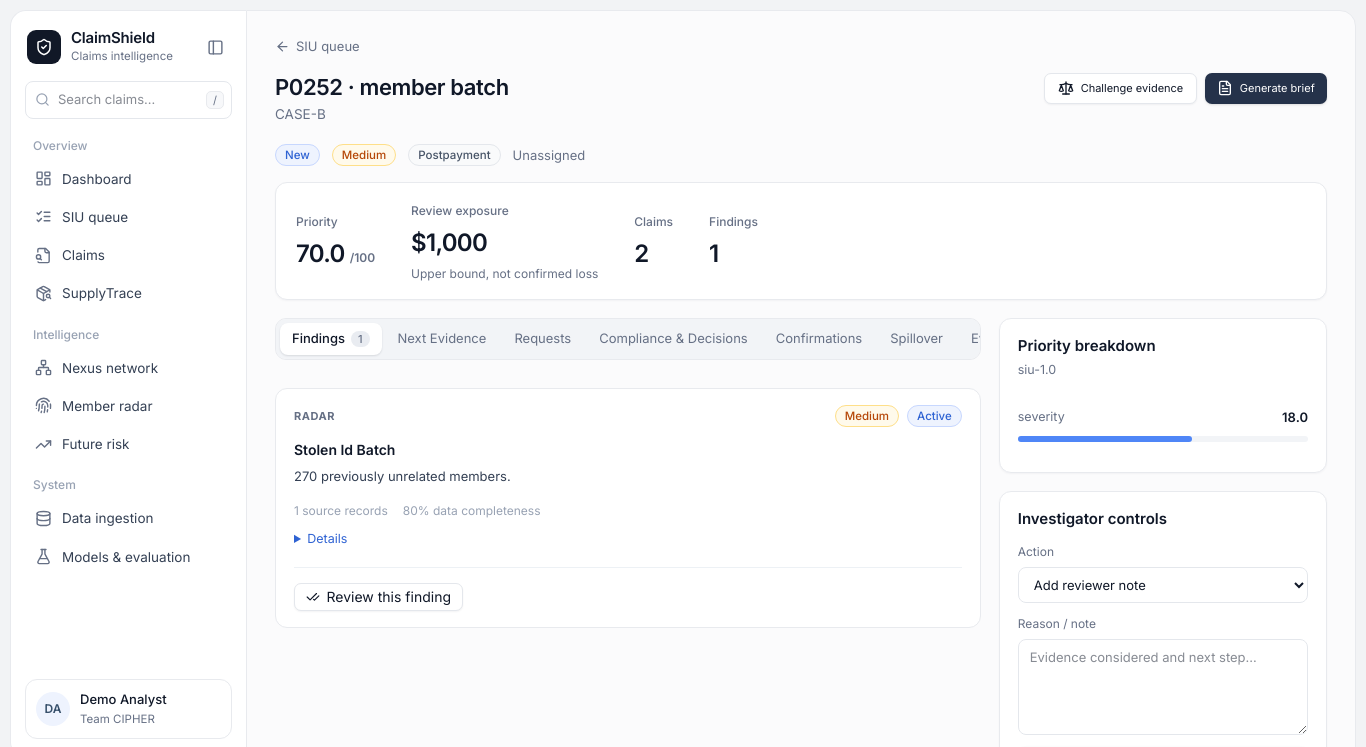
Test: Investigation extensions › shows probability source and capacity crossing
What coordinates should you click on to do the following:
click the tab "next evidence"
I would click on:
 (442, 339)
Its box is [386,323,498,355].
(page scrolled)
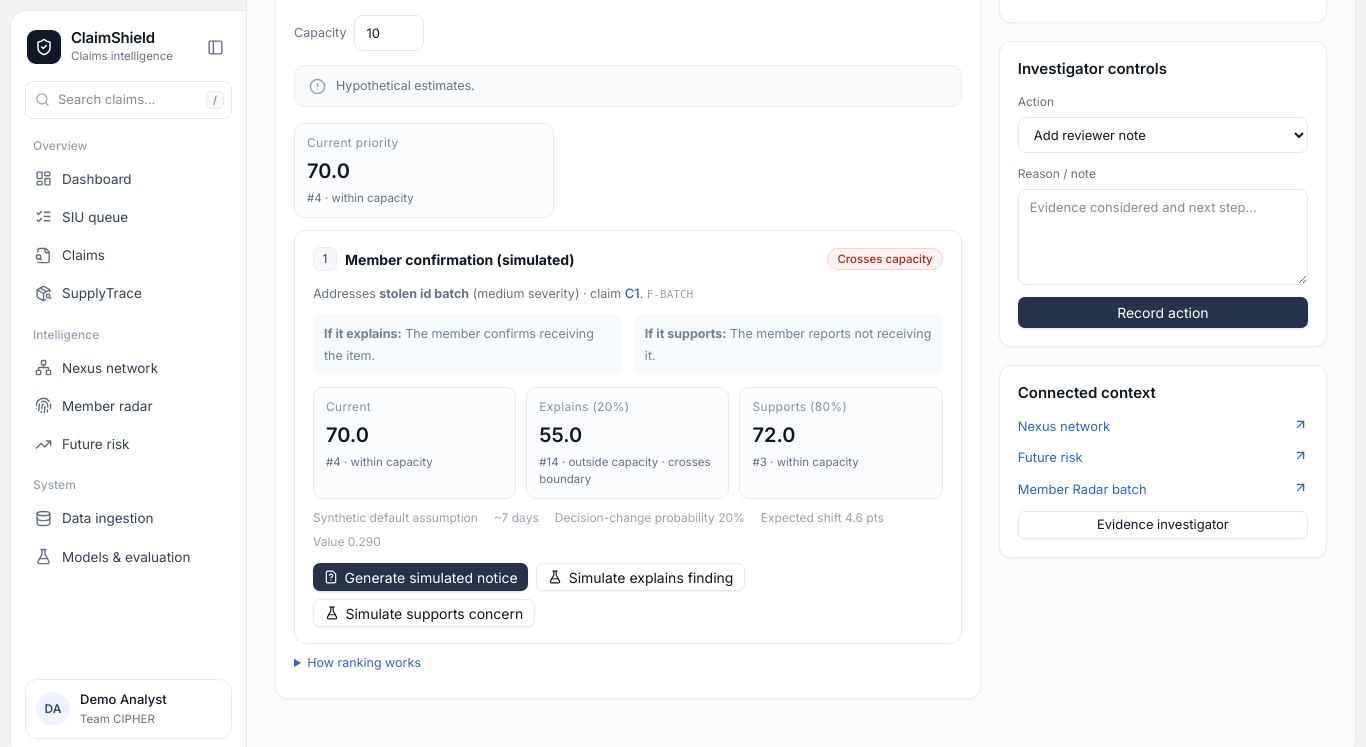
Expected: the text "Synthetic default assumption" is shown, [313,509,478,527]
Expected: the text "#14 · outside capacity · crosses boundary" is shown, [539,454,716,488]
